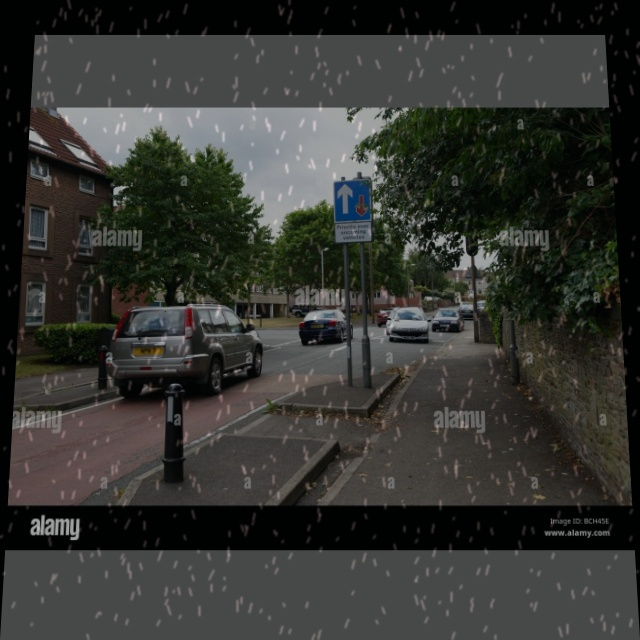Priority_for_Oncoming_Traffic: (333, 179, 373, 221)
